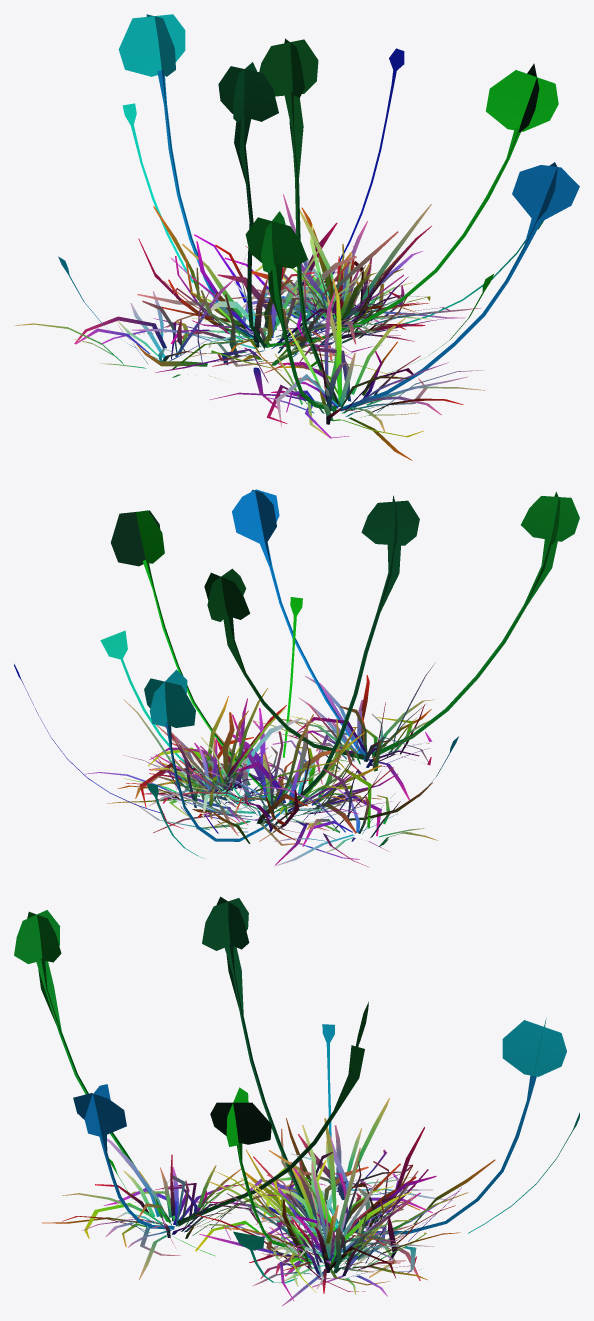
The model's file is Sea_Thrift_vkbgaihha_Mid_vkbgaihha_VarC_LOD1.fbx.
The picture shows the model from 3 angles, top to bottom: view 1: azimuth 30°, elevation 25°; view 2: azimuth 150°, elevation 25°; view 3: azimuth 270°, elevation 25°; orthographic projection. The views are drawn at different scales.
Visible parts, largest first — view 1: _fd2h_VarC_LOD2; view 2: _fd2h_VarC_LOD2; view 3: _fd2h_VarC_LOD2.
Part boxes in pixels (bbox=[...]): _fd2h_VarC_LOD2: bbox=[14, 14, 579, 460]; _fd2h_VarC_LOD2: bbox=[14, 489, 579, 867]; _fd2h_VarC_LOD2: bbox=[14, 896, 579, 1306].
Size of the model in its own units: 30.97 by 22.66 by 37.21.
